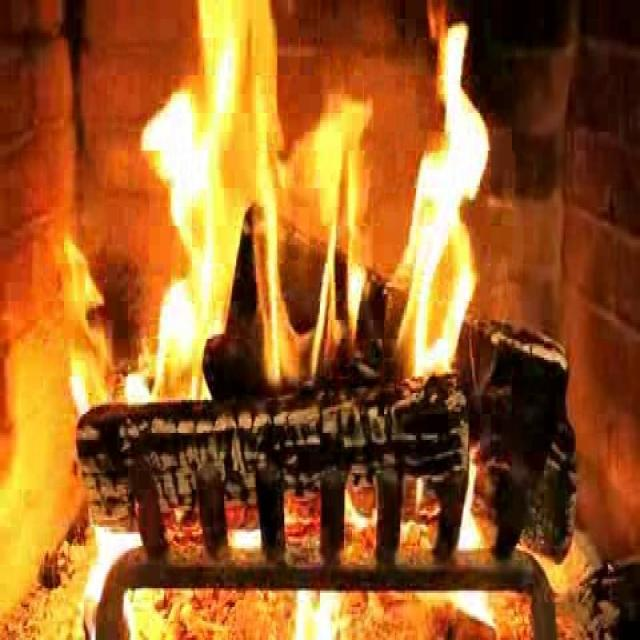Fire: (131, 6, 486, 410)
